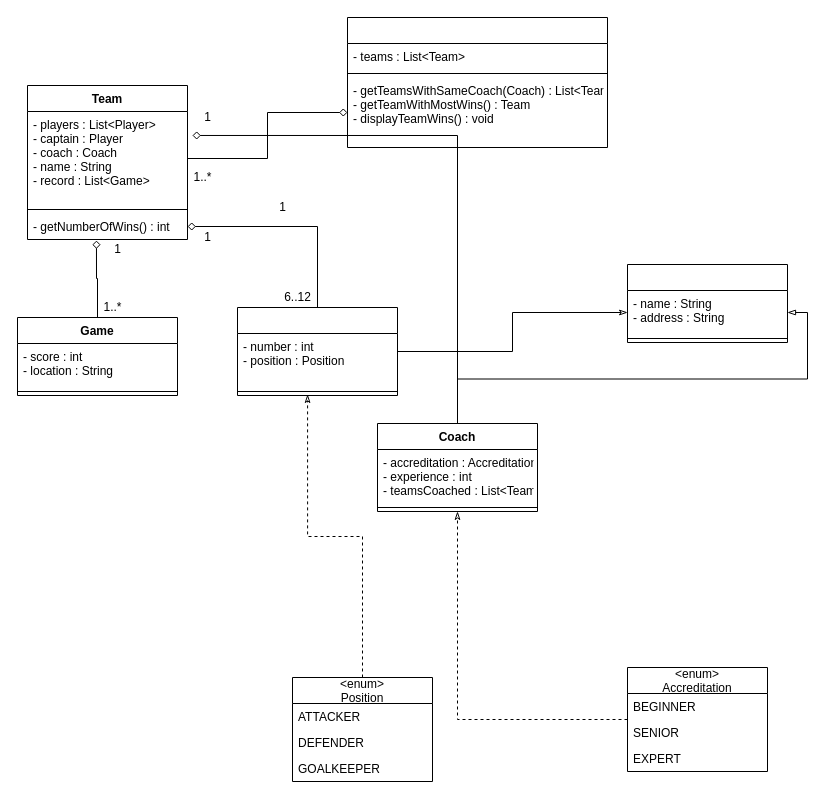
This 833x802 diagram has some shape labels left out. Here are the shapes that lost their labels. From the top down, the box of each, then its label:
(346, 16, 608, 148): HockeyLeague
(626, 264, 788, 342): People
(236, 306, 398, 396): Player
